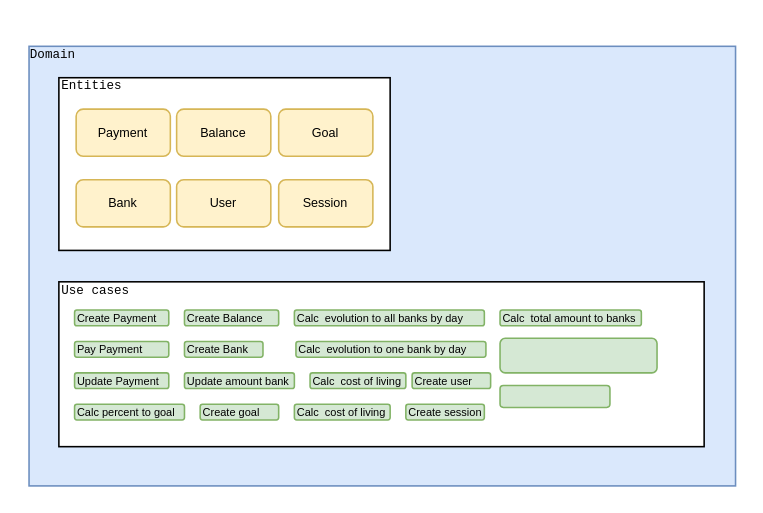
Image size: 763x513. Some labels were removed from this diagram. The box of each missing label's shape, as (x1, y1, x2, y2) in pixels:
Calc total amount to payments of current month: (498, 337, 657, 373)
Define pendencies: (498, 384, 610, 407)
